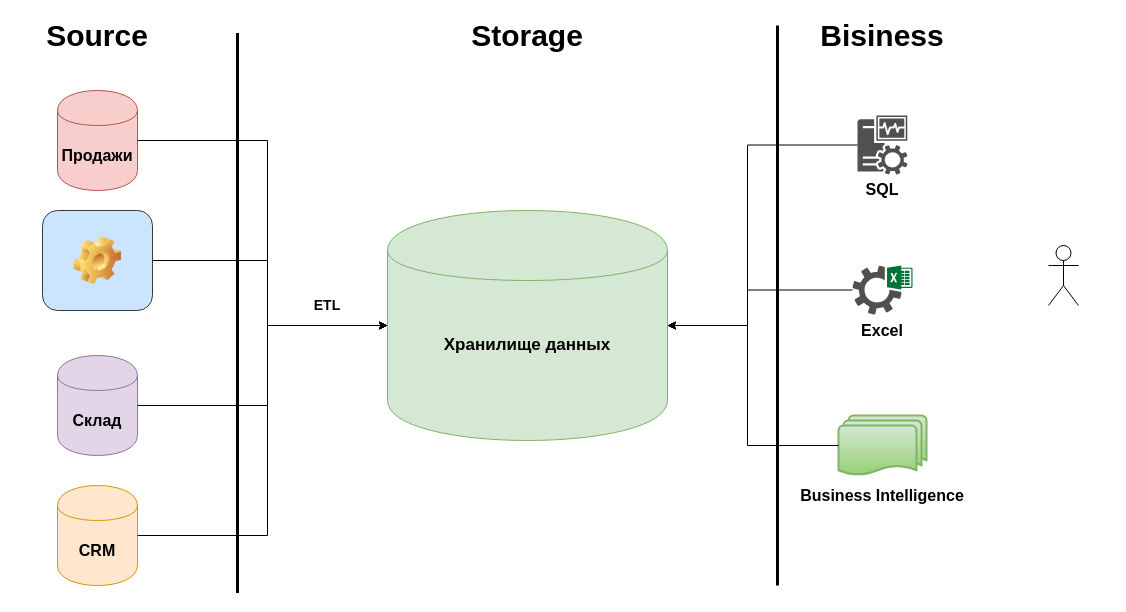
Image size: 1126x612. Some labels were removed from this diagram. Each missing label, with the centre of its shape:
"Google Analytics API" belongs at point 97,260.
"Пользователь" belongs at point 1063,275.
